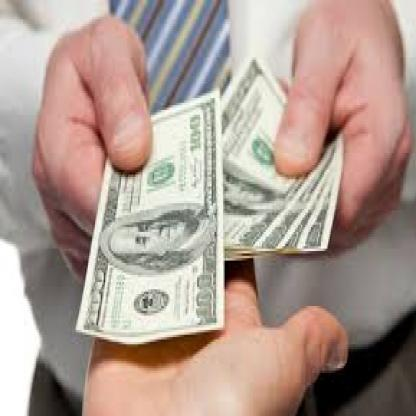billete: (75, 60, 342, 344)
